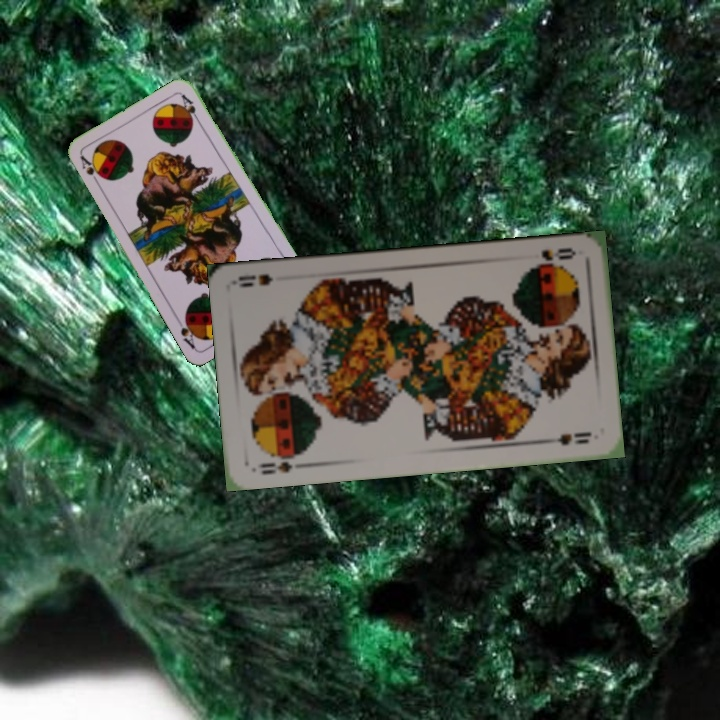SA: (76, 151, 107, 188)
SO: (249, 449, 308, 477), (525, 244, 579, 270)
